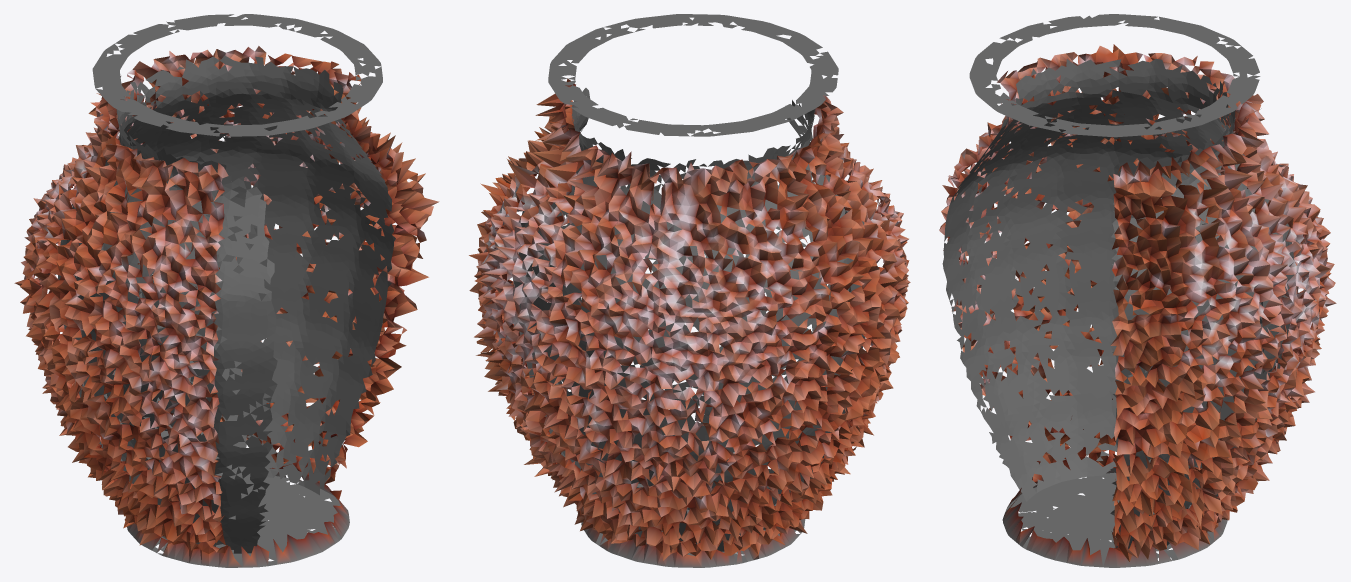
Rendered from vase_final300.obj.
3 views of the same model, side by side, from view 1: azimuth 30°, elevation 25°; view 2: azimuth 150°, elevation 25°; view 3: azimuth 270°, elevation 25° (orthographic).
Size of the model in its own units: 1.57 by 1.69 by 1.37.
